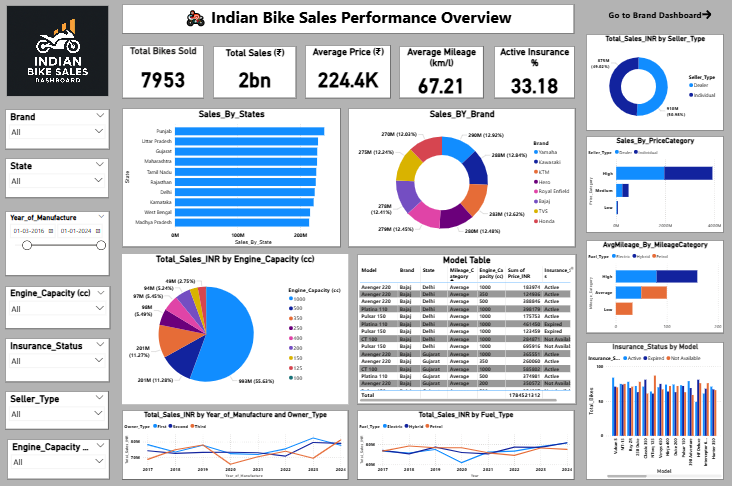

The page's visual inventory and layout, read from the dashboard file:
{"tool":"powerbi","page":{"name":"Executive Overview","canvas":[1970,1320],"ordinal":0},"visuals":[{"type":"card","title":"Total Bikes Sold","fields":{"Values":["bike_sales_india.Total_Bikes"]},"box":[333.3,136.7,220,143.3],"z":0},{"type":"card","title":"Average Mileage (km/l)","fields":{"Values":["bike_sales_india.Avg_Mileage_km_per_l"]},"box":[1076.7,140,226.7,140],"z":1000},{"type":"card","title":"Active Insurance %","fields":{"Values":["bike_sales_india.Active_Insurance_Percent"]},"box":[1330,140,216.7,140],"z":2000},{"type":"card","title":"Total Sales (₹)","fields":{"Values":["bike_sales_india.Total_Sales_INR"]},"box":[576.7,140,223.3,140],"z":3000},{"type":"card","title":"Average Price (₹)","fields":{"Values":["bike_sales_india.Avg_Price_INR"]},"box":[823.3,136.7,230,143.3],"z":4000},{"type":"textbox","box":[333.3,26.7,1213.3,80],"z":5000},{"type":"slicer","fields":{"Values":["bike_sales_india.Brand"]},"box":[20,307.5,280,107.5],"z":6000},{"type":"slicer","fields":{"Values":["bike_sales_india.State"]},"box":[18.6,440,278.6,107.1],"z":7000},{"type":"slicer","fields":{"Values":["bike_sales_india.Year_of_Manufacture"]},"box":[18.6,582.9,280,174.3],"z":8000},{"type":"slicer","fields":{"Values":["bike_sales_india.Insurance_Status"]},"box":[18.3,921.7,280,118.3],"z":9000},{"type":"slicer","fields":{"Values":["bike_sales_india.Seller_Type"]},"box":[20,1065,277.5,102.5],"z":10000},{"type":"donutChart","title":"Sales_BY_Brand ","fields":{"Y":["bike_sales_india.Sales_BY_Brand"],"Category":["bike_sales_india.Brand"]},"box":[940,306.7,610,373.3],"z":11000},{"type":"barChart","title":"Sales_By_PriceCategory ","fields":{"Y":["bike_sales_india.Sales_By_PriceCategory"],"Category":["bike_sales_india.Price_Category"],"Series":["bike_sales_india.Seller_Type"]},"box":[1576.7,380,370,260],"z":12000},{"type":"barChart","title":"AvgMileage_By_MileageCategory ","fields":{"Y":["bike_sales_india.AvgMileage_By_MileageCategory"],"Category":["bike_sales_india.Mileage_Category"],"Series":["bike_sales_india.Fuel_Type"]},"box":[1576.7,660,370,250],"z":13000},{"type":"barChart","title":"Sales_By_States","fields":{"Y":["bike_sales_india.Sales_By_State"],"Category":["bike_sales_india.State"]},"box":[333.3,306.7,586.7,373.3],"z":14000},{"type":"tableEx","title":"Model Table","fields":{"Values":["bike_sales_india.Model","bike_sales_india.Brand","bike_sales_india.State","bike_sales_india.Mileage_Category","bike_sales_india.Engine_Capacity (cc)","Sum(bike_sales_india.Price_INR)","bike_sales_india.Insurance_Status"]},"box":[962.5,697.5,587.5,402.5],"z":15000},{"type":"clusteredColumnChart","title":"Insurance_Status by Model","fields":{"Series":["bike_sales_india.Insurance_Status"],"Y":["bike_sales_india.Total_Bikes"],"Category":["bike_sales_india.Model"]},"box":[1577.5,932.5,370,370],"z":16000},{"type":"lineChart","fields":{"Y":["bike_sales_india.Total_Sales_INR"],"Category":["bike_sales_india.Year_of_Manufacture"],"Series":["bike_sales_india.Owner_Type"]},"box":[333.3,1116.7,606.7,186.7],"z":17000},{"type":"donutChart","fields":{"Category":["bike_sales_india.Seller_Type"],"Y":["bike_sales_india.Total_Sales_INR"]},"box":[1576.7,106.7,370,260],"z":18000},{"type":"lineChart","title":"Total_Sales_INR by Fuel_Type","fields":{"Y":["bike_sales_india.Total_Sales_INR"],"Category":["bike_sales_india.Year_of_Manufacture.Variation.Date Hierarchy.Year"],"Series":["bike_sales_india.Fuel_Type"]},"box":[963.3,1116.7,583.3,186.7],"z":19000},{"type":"slicer","fields":{"Values":["bike_sales_india.Engine_Capacity (cc)"]},"box":[25,1195,275,107.5],"z":20000},{"type":"actionButton","box":[1605,27.5,342.5,57.5],"z":21000},{"type":"pieChart","fields":{"Category":["bike_sales_india.Engine_Capacity (cc)"],"Y":["bike_sales_india.Total_Sales_INR"]},"box":[333.3,698.3,606.7,403.3],"z":22000},{"type":"slicer","fields":{"Values":["bike_sales_india.Engine_Capacity (cc)"]},"box":[18.8,783.4,281.7,115.4],"z":23000},{"type":"image","box":[18.8,26.8,281.7,252.2],"z":24000}]}

Visuals, with their boxes in screenshot pixels (x1, y1, x2, y2), scaled from the page's 1970x1320 canvas onto the 732x486 screenshot:
"Total Bikes Sold" card: {"x1": 124, "y1": 50, "x2": 206, "y2": 103}
"Average Mileage (km/l)" card: {"x1": 400, "y1": 52, "x2": 484, "y2": 103}
"Active Insurance %" card: {"x1": 494, "y1": 52, "x2": 575, "y2": 103}
"Total Sales (₹)" card: {"x1": 214, "y1": 52, "x2": 297, "y2": 103}
"Average Price (₹)" card: {"x1": 306, "y1": 50, "x2": 391, "y2": 103}
textbox: {"x1": 124, "y1": 10, "x2": 575, "y2": 39}
slicer - bike_sales_india.Brand: {"x1": 7, "y1": 113, "x2": 111, "y2": 153}
slicer - bike_sales_india.State: {"x1": 7, "y1": 162, "x2": 110, "y2": 201}
slicer - bike_sales_india.Year_of_Manufacture: {"x1": 7, "y1": 215, "x2": 111, "y2": 279}
slicer - bike_sales_india.Insurance_Status: {"x1": 7, "y1": 339, "x2": 111, "y2": 383}
slicer - bike_sales_india.Seller_Type: {"x1": 7, "y1": 392, "x2": 111, "y2": 430}
"Sales_BY_Brand " donutChart: {"x1": 349, "y1": 113, "x2": 576, "y2": 250}
"Sales_By_PriceCategory " barChart: {"x1": 586, "y1": 140, "x2": 723, "y2": 236}
"AvgMileage_By_MileageCategory " barChart: {"x1": 586, "y1": 243, "x2": 723, "y2": 335}
"Sales_By_States" barChart: {"x1": 124, "y1": 113, "x2": 342, "y2": 250}
"Model Table" tableEx: {"x1": 358, "y1": 257, "x2": 576, "y2": 405}
"Insurance_Status by Model" clusteredColumnChart: {"x1": 586, "y1": 343, "x2": 724, "y2": 480}
lineChart - bike_sales_india.Total_Sales_INR x bike_sales_india.Year_of_Manufacture: {"x1": 124, "y1": 411, "x2": 349, "y2": 480}
donutChart - bike_sales_india.Seller_Type x bike_sales_india.Total_Sales_INR: {"x1": 586, "y1": 39, "x2": 723, "y2": 135}
"Total_Sales_INR by Fuel_Type" lineChart: {"x1": 358, "y1": 411, "x2": 575, "y2": 480}
slicer - bike_sales_india.Engine_Capacity (cc): {"x1": 9, "y1": 440, "x2": 111, "y2": 480}
actionButton: {"x1": 596, "y1": 10, "x2": 724, "y2": 31}
pieChart - bike_sales_india.Engine_Capacity (cc) x bike_sales_india.Total_Sales_INR: {"x1": 124, "y1": 257, "x2": 349, "y2": 406}
slicer - bike_sales_india.Engine_Capacity (cc): {"x1": 7, "y1": 288, "x2": 112, "y2": 331}
image: {"x1": 7, "y1": 10, "x2": 112, "y2": 103}
